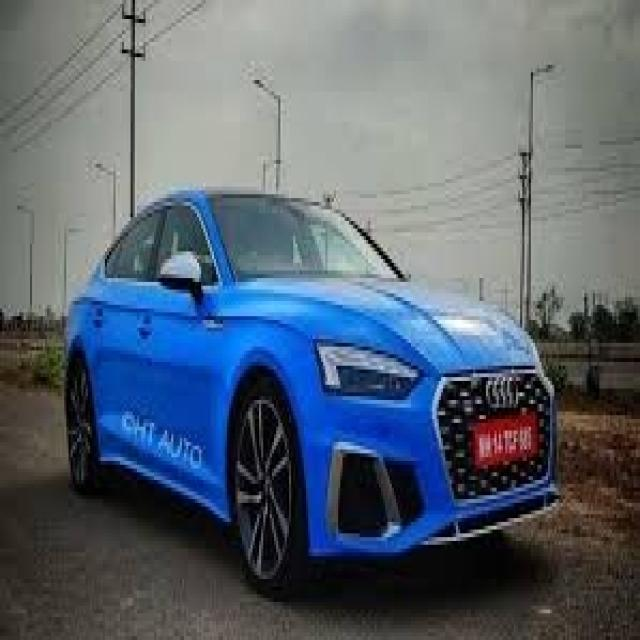blue: (62, 190, 557, 580)
